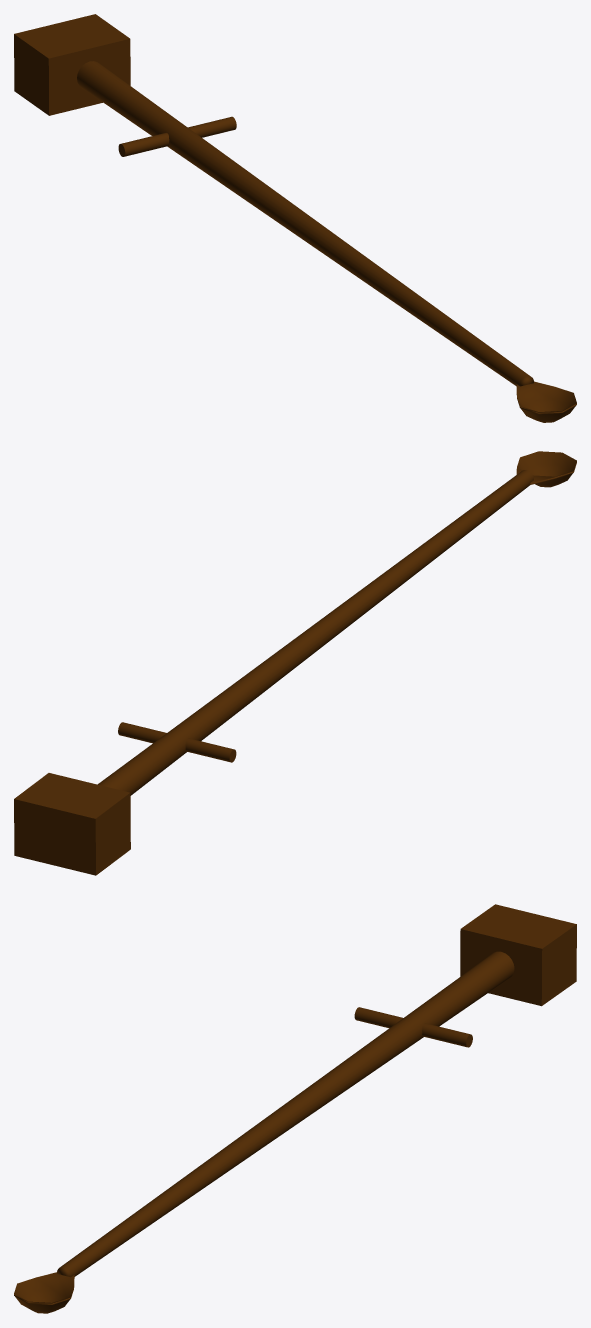
Rendered from Trebuchet Arm_with_Hinge.fbx.
3 renders of one model, top to bottom at view 1: azimuth 30°, elevation 25°; view 2: azimuth 150°, elevation 25°; view 3: azimuth 330°, elevation 25°, orthographic.
Visible parts, largest first — view 1: polySurface9; view 2: polySurface9; view 3: polySurface9.
Boxes of the visible parts, x1=… form: polySurface9: x1=14, y1=14, x2=576, y2=422; polySurface9: x1=14, y1=451, x2=576, y2=875; polySurface9: x1=14, y1=904, x2=576, y2=1313.
Bounding box in the file's own units: 3.82 × 1.9 × 30.16.
